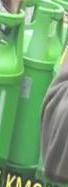cylinder: (1, 1, 68, 187)
